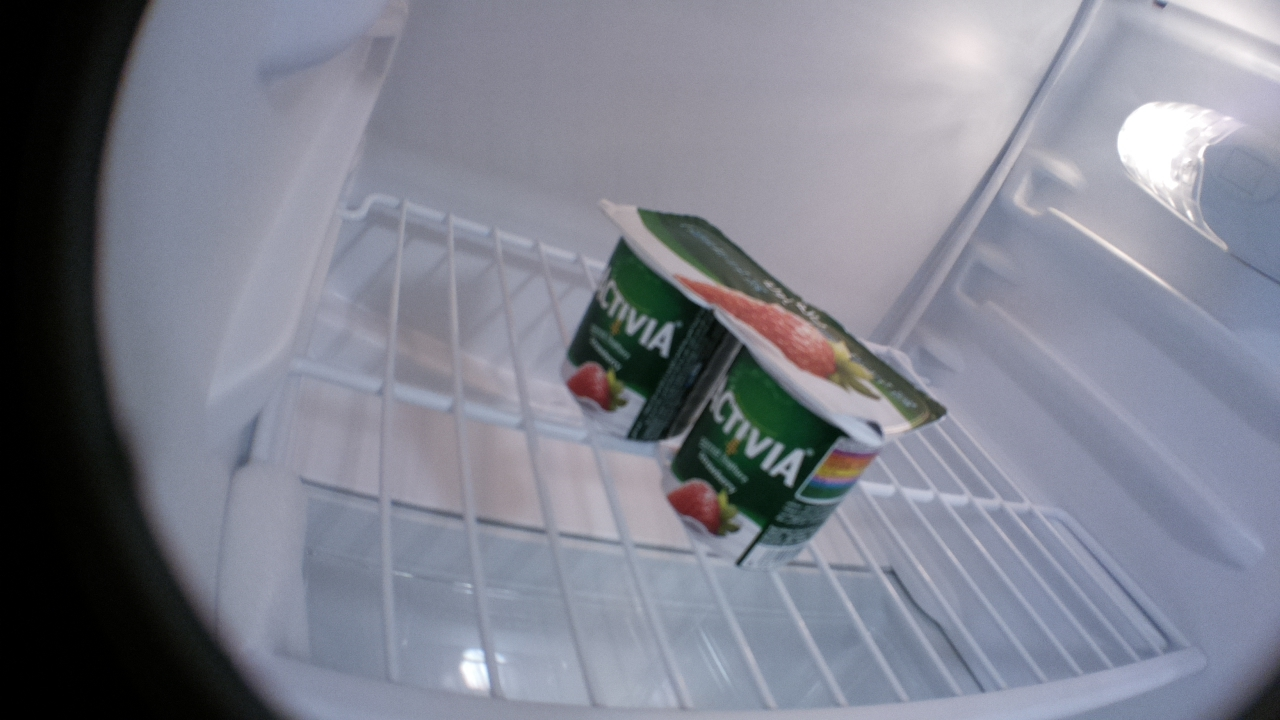yoghurt: (661, 301, 949, 574), (557, 198, 800, 443)
